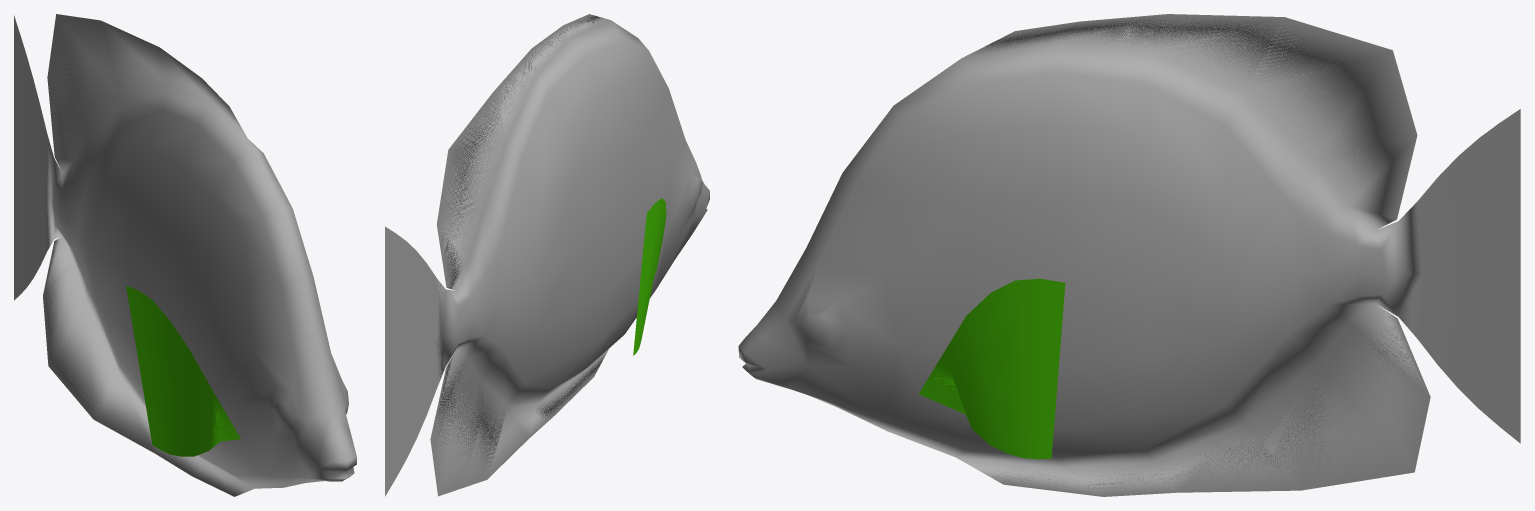
The model's file is Chaetodontidae_E_S.fbx.
3 views of the same model, side by side, from view 1: azimuth 30°, elevation 25°; view 2: azimuth 150°, elevation 25°; view 3: azimuth 270°, elevation 25° (orthographic). The views are drawn at different scales.
Visible parts, largest first — view 1: Chaetodontidae_E_S_Mesh; view 2: Chaetodontidae_E_S_Mesh; view 3: Chaetodontidae_E_S_Mesh.
Part boxes in pixels (left/top/right/bottom): Chaetodontidae_E_S_Mesh: left=14, top=14, right=356, bottom=496; Chaetodontidae_E_S_Mesh: left=385, top=14, right=709, bottom=496; Chaetodontidae_E_S_Mesh: left=738, top=14, right=1520, bottom=496.
Bounding box in the file's own units: 0.00242 × 0.0058 × 0.00853.
